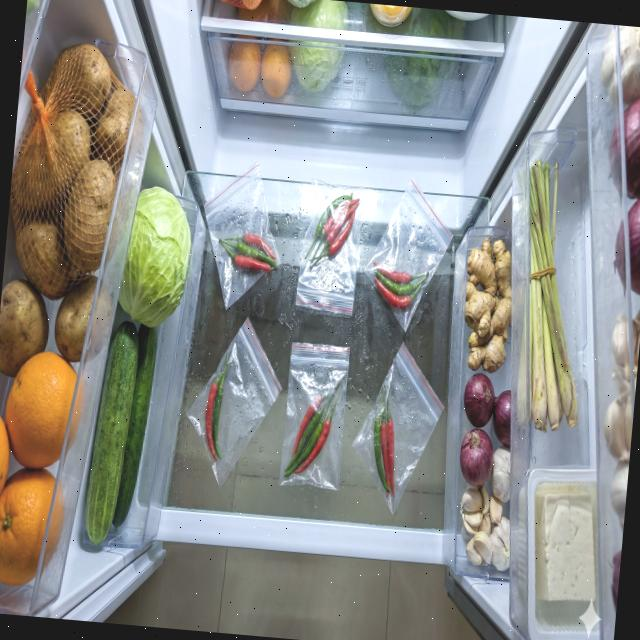cabbage: (116, 183, 196, 330), (284, 0, 350, 94)
chili: (283, 380, 343, 482), (303, 188, 360, 273), (368, 384, 403, 498), (200, 350, 230, 461), (368, 261, 429, 312), (216, 230, 278, 272)
cucumber: (82, 317, 160, 548)
garlic: (454, 441, 520, 572), (600, 391, 635, 461), (608, 309, 640, 383)
ginger: (458, 234, 518, 374)
lemongrass: (506, 157, 601, 436)
onion: (456, 370, 516, 490)
orange: (0, 347, 86, 592), (225, 40, 294, 100)
potato: (0, 36, 152, 387)
tofu: (525, 488, 604, 604)
